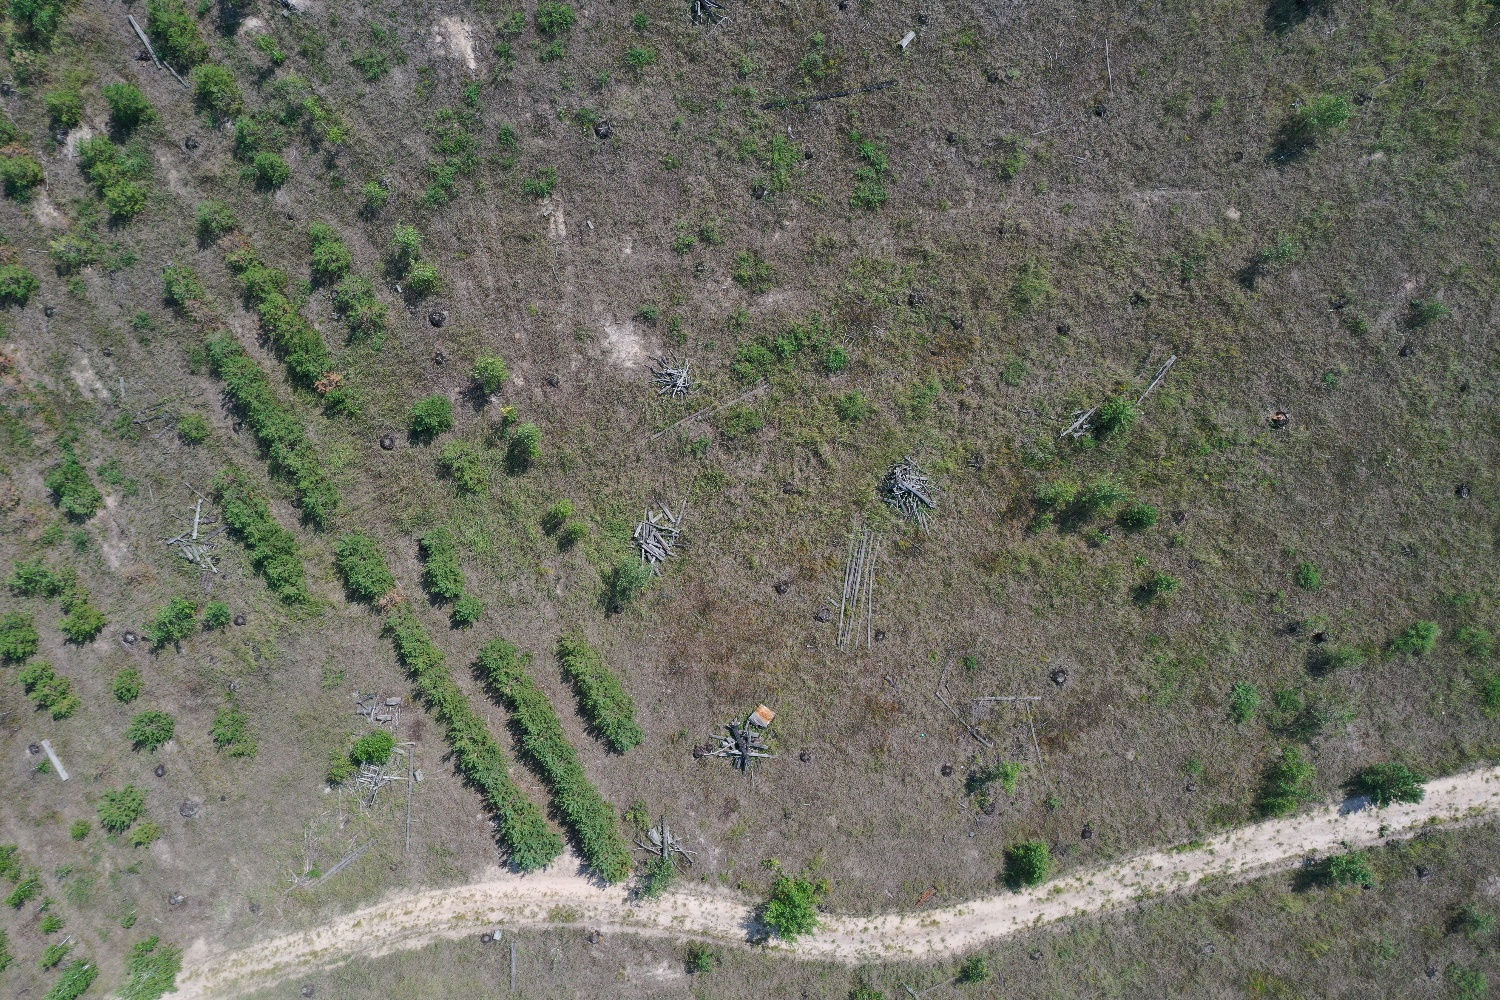branches: (703, 704, 781, 773), (874, 456, 942, 533), (632, 502, 687, 561), (645, 349, 694, 398)
